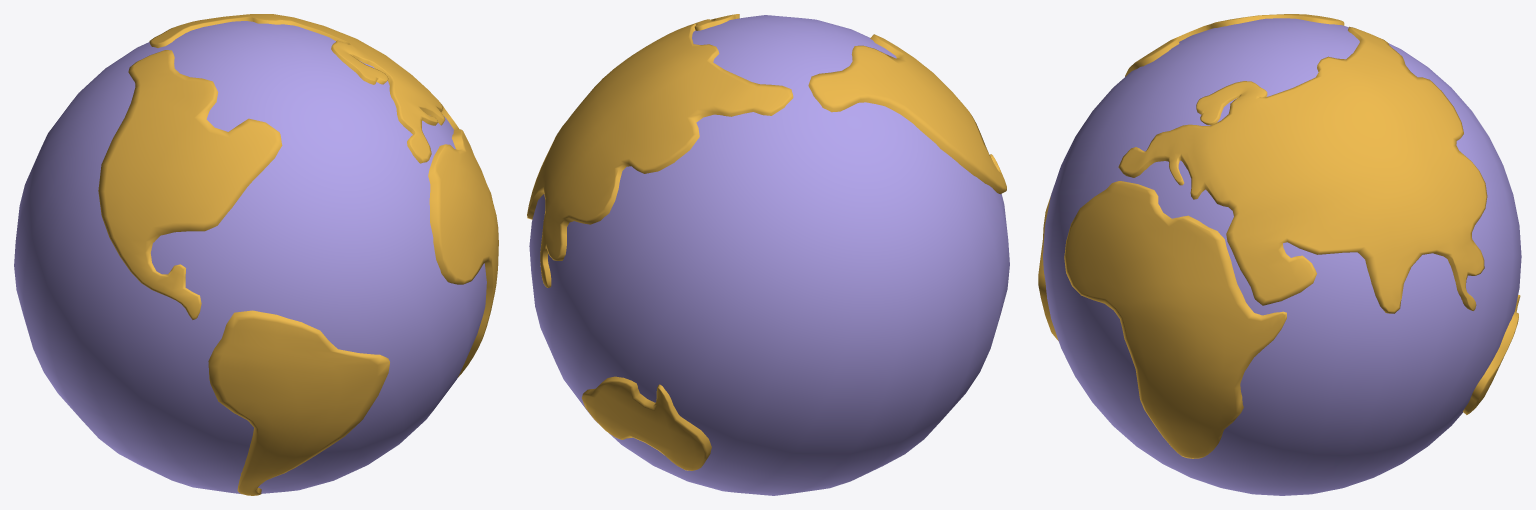
The model's file is earthv4_UV.glb.
The picture shows the model from 3 angles, left to right: view 1: azimuth 30°, elevation 25°; view 2: azimuth 150°, elevation 25°; view 3: azimuth 270°, elevation 25°; orthographic projection.
Visible parts, largest first — view 1: Sphere, optimized-verts; view 2: Sphere, optimized-verts; view 3: optimized-verts, Sphere.
Part boxes in pixels (x1=…): Sphere: x1=14, y1=21, x2=486, y2=494; optimized-verts: x1=98, y1=14, x2=498, y2=495; Sphere: x1=529, y1=15, x2=1009, y2=495; optimized-verts: x1=527, y1=14, x2=1006, y2=470; optimized-verts: x1=1038, y1=14, x2=1520, y2=458; Sphere: x1=1043, y1=18, x2=1521, y2=495.
Size of the model in its own units: 3.83 by 3.79 by 3.83.
